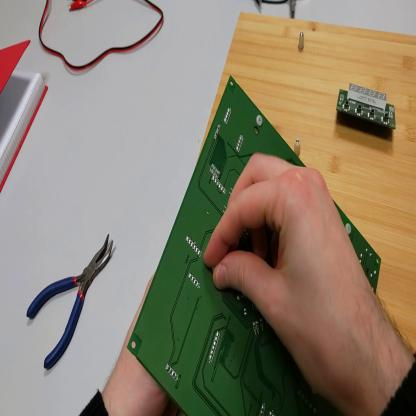hand: (204, 155, 376, 398), (99, 270, 173, 413)
low voltage board: (127, 76, 381, 415)
oscilloscope probe tip: (291, 2, 298, 18)
pliers: (27, 231, 117, 371)
register: (1, 34, 50, 192)
working area: (201, 13, 416, 355)
